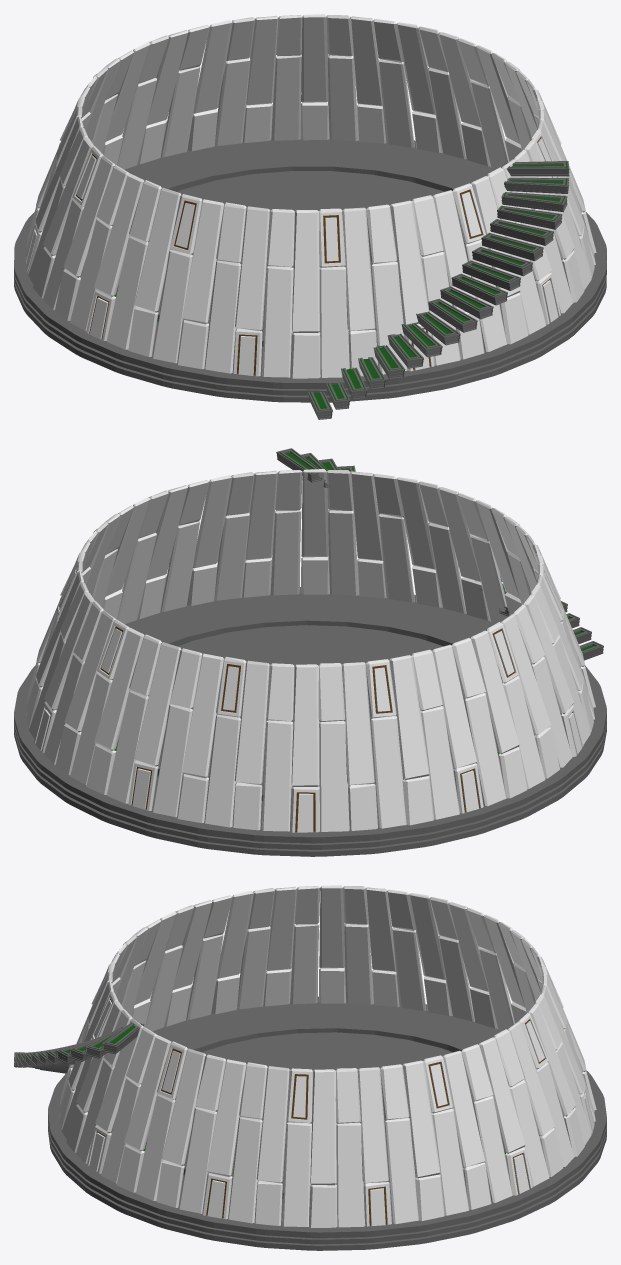
Rendered from LargeOnsenLvl2.fbx.
3 renders of one model, top to bottom at view 1: azimuth 30°, elevation 25°; view 2: azimuth 150°, elevation 25°; view 3: azimuth 270°, elevation 25°, orthographic. The views are drawn at different scales.
Visible parts, largest first — view 1: OnsenL2, LFloor.001, LStair.001; view 2: OnsenL2, LFloor.001, LStair.001; view 3: OnsenL2, LFloor.001, LStair.001.
Part boxes in pixels (bbox=[...]): OnsenL2: bbox=[25, 14, 596, 378]; LFloor.001: bbox=[14, 139, 606, 402]; LStair.001: bbox=[308, 161, 569, 419]; OnsenL2: bbox=[26, 469, 595, 832]; LFloor.001: bbox=[14, 587, 606, 856]; LStair.001: bbox=[276, 448, 603, 660]; OnsenL2: bbox=[59, 885, 596, 1227]; LFloor.001: bbox=[48, 996, 606, 1250]; LStair.001: bbox=[14, 1022, 144, 1073].
Size of the model in its own units: 241 by 74.03 by 256.
